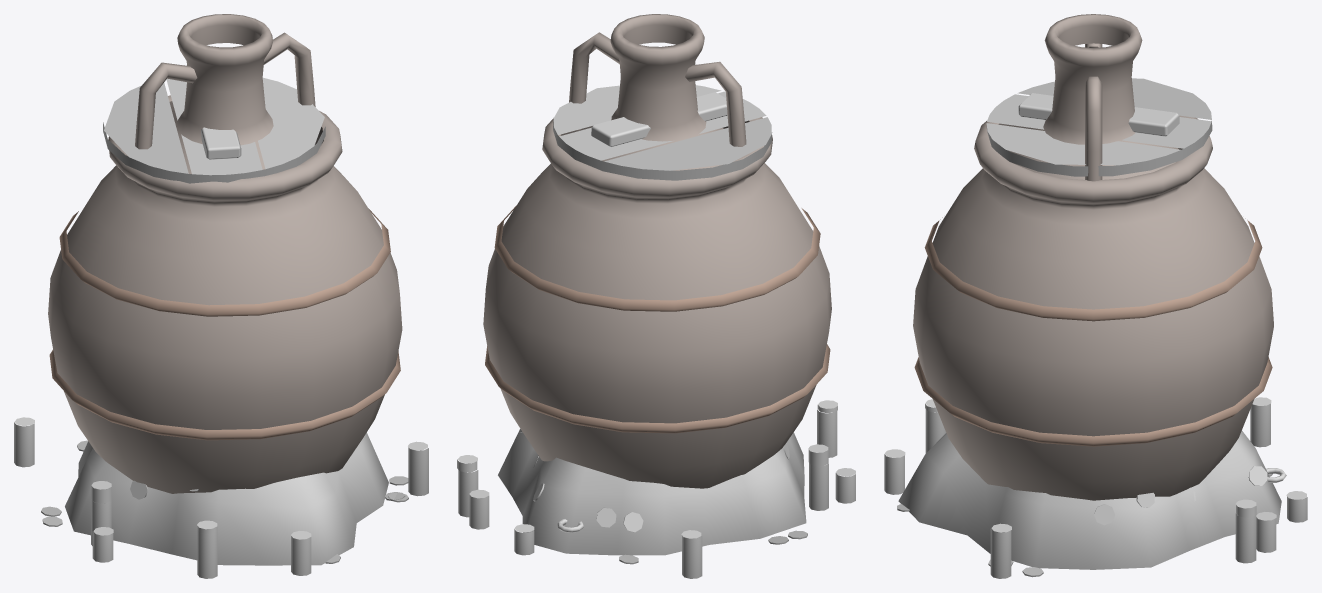
File: vessels.glb
3 renders of one model, left to right at view 1: azimuth 30°, elevation 25°; view 2: azimuth 150°, elevation 25°; view 3: azimuth 270°, elevation 25°, orthographic. The views are drawn at different scales.
Parts seen in each view (by area): view 1: jar_storage, coin_heap, jar_tall; view 2: jar_storage, coin_heap, jar_tall; view 3: jar_storage, coin_heap, jar_tall.
Boxes of the visible parts, <box> form: jar_storage: <box>48,77,402,493</box>; coin_heap: <box>14,417,428,578</box>; jar_tall: <box>135,14,315,173</box>; jar_storage: <box>483,85,831,488</box>; coin_heap: <box>457,400,855,578</box>; jar_tall: <box>569,14,746,170</box>; jar_storage: <box>913,78,1273,500</box>; coin_heap: <box>884,397,1307,578</box>; jar_tall: <box>1008,14,1178,181</box>.
Size of the model in its own units: 0.7454 by 1.02 by 0.8327.
